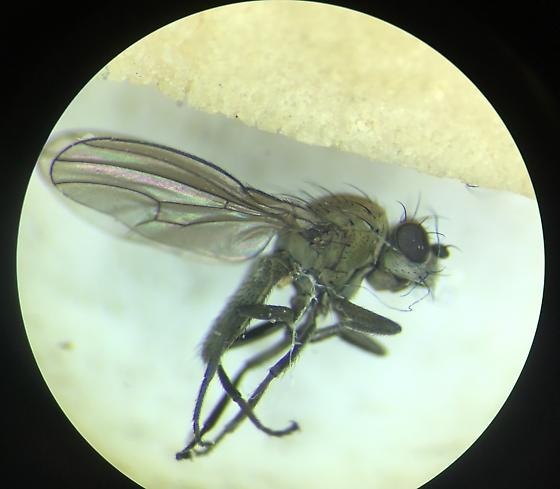Ephydridae: (51, 123, 457, 464)
